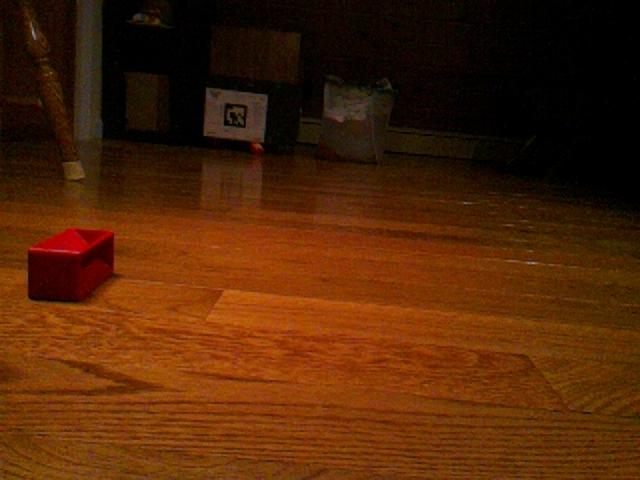red: (26, 226, 117, 303)
